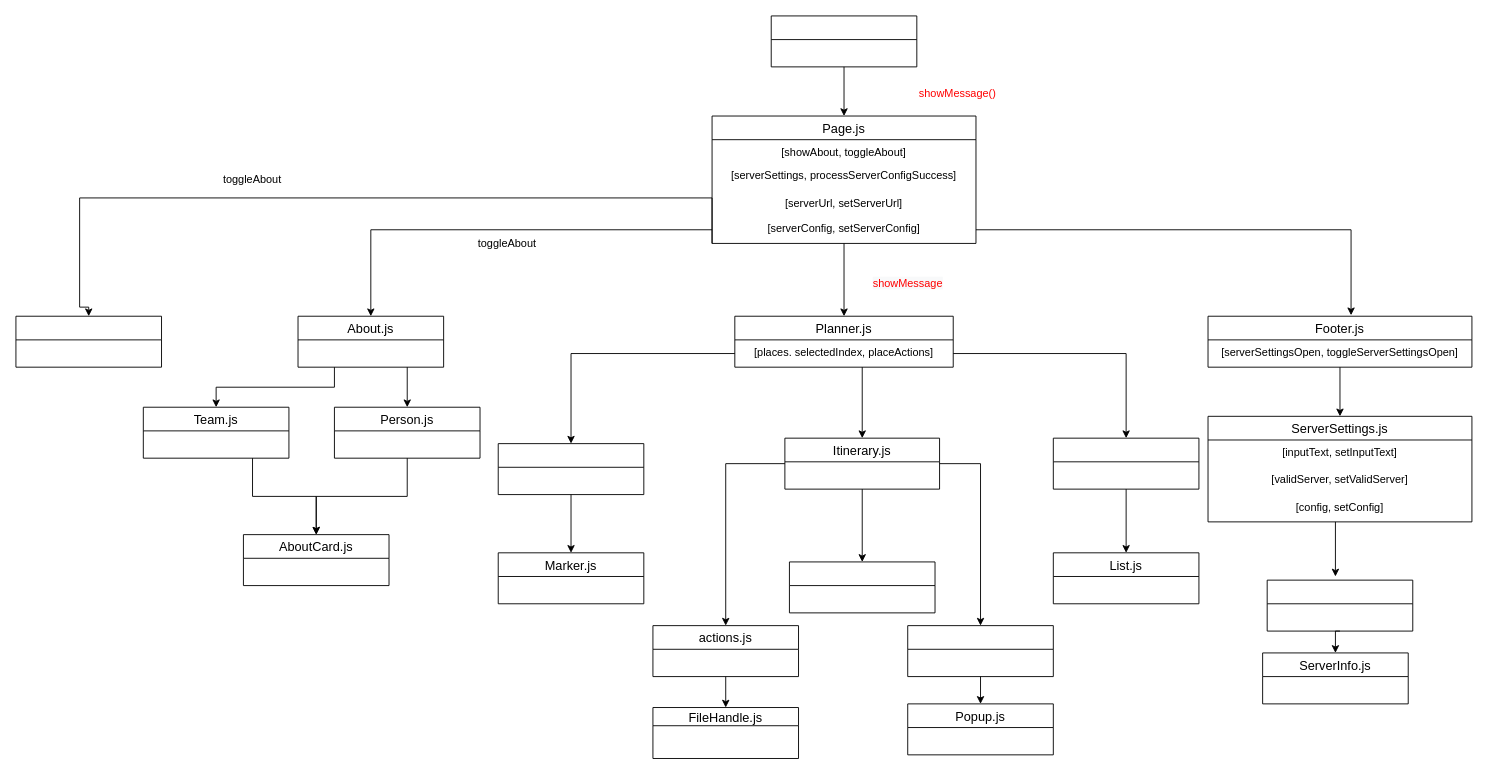
This 1488x774 diagram has some shape labels left out. Each missing label, with the centre of its shape:
App.js: the point at 843,41
FindModal.js: the point at 1125,463
Header.js: the point at 88,341
ListServer.js: the point at 1339,605
Map.js: the point at 570,469
ShorterTrip.js: the point at 980,651
TotalDistance.js: the point at 862,587
